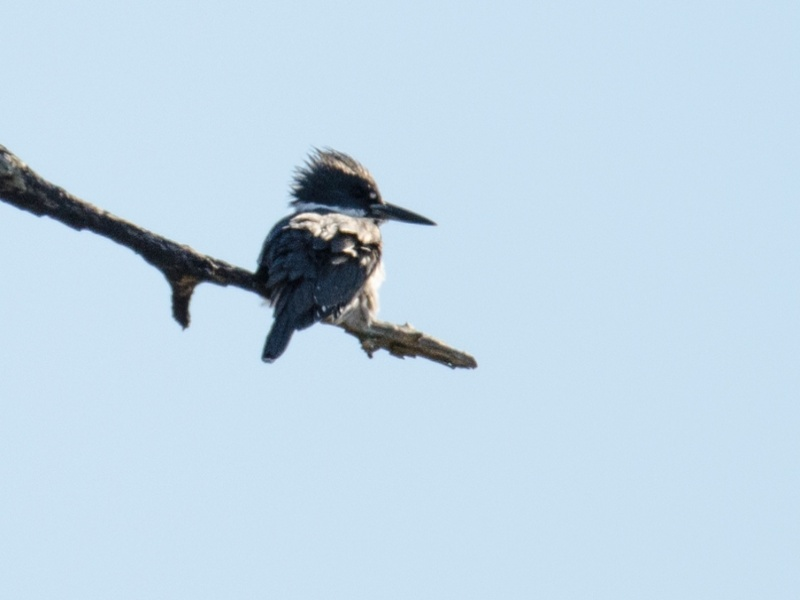kingfisher: (255, 143, 440, 371)
